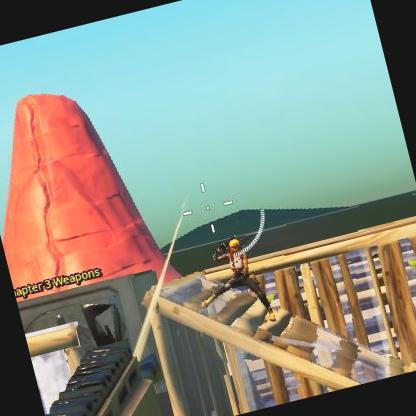person: (213, 237, 263, 316)
